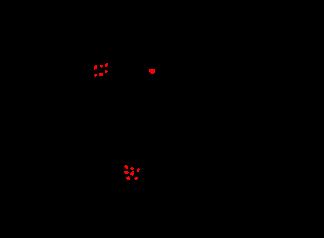Target: (149, 69, 155, 74), (130, 171, 134, 176), (124, 165, 128, 169), (126, 176, 130, 180), (94, 65, 97, 70), (124, 171, 129, 174), (105, 63, 108, 67), (99, 73, 103, 76), (130, 167, 134, 170), (137, 168, 140, 172), (134, 177, 138, 180), (100, 65, 103, 68), (105, 70, 108, 73), (94, 74, 97, 77)
